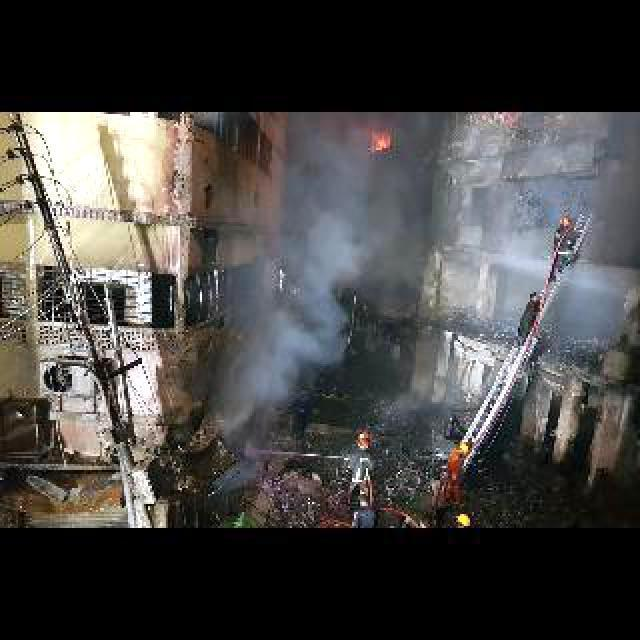Smoke: (248, 108, 467, 358), (204, 310, 330, 450)
